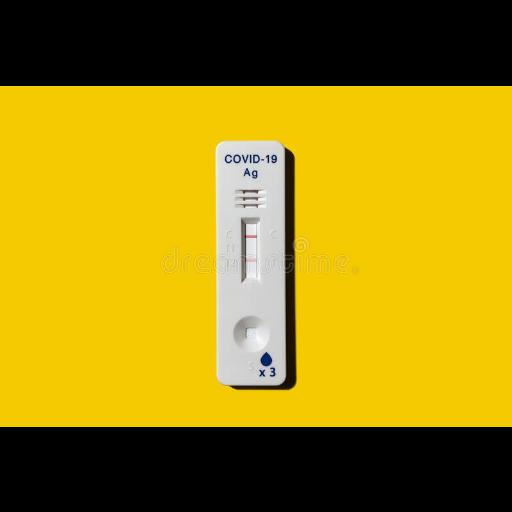Pos: (216, 140, 284, 384)
